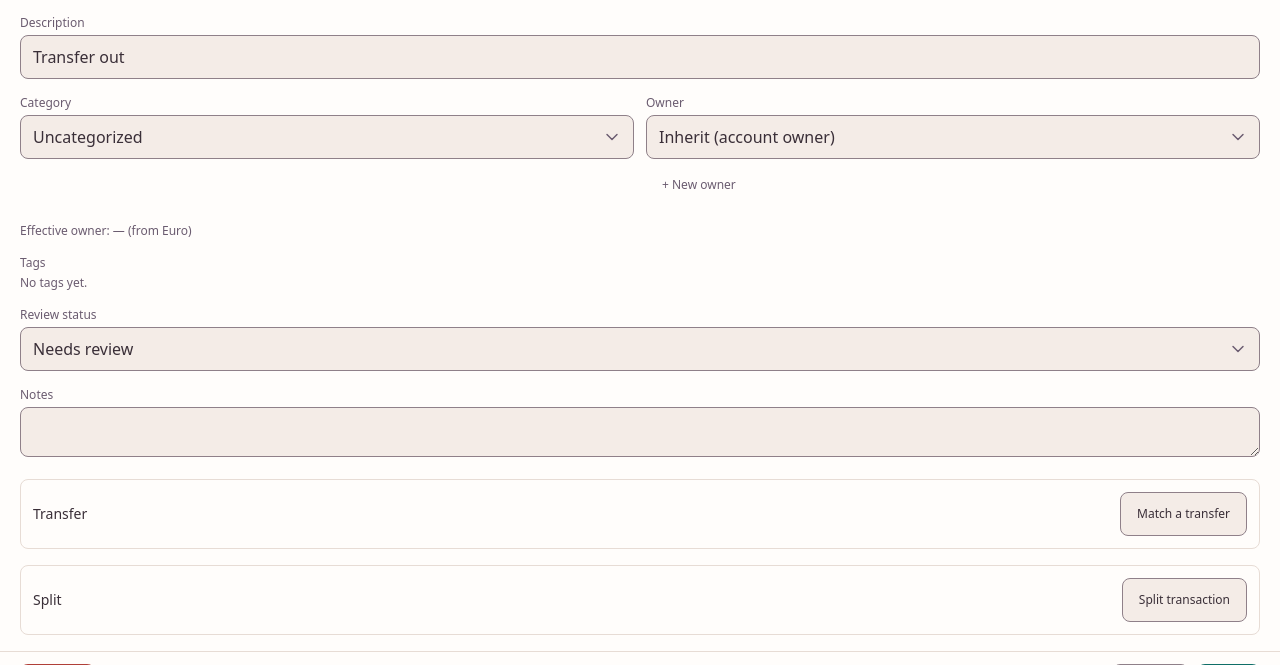
Scenario: <TxnDetailSheet /> transfers › flags a candidate whose spread is wider than a bank spread usually is
The image size is (1280, 665).
(page scrolled)
Click the button with test id "transfer-match-open": [1184, 514] box [1120, 492, 1247, 536]
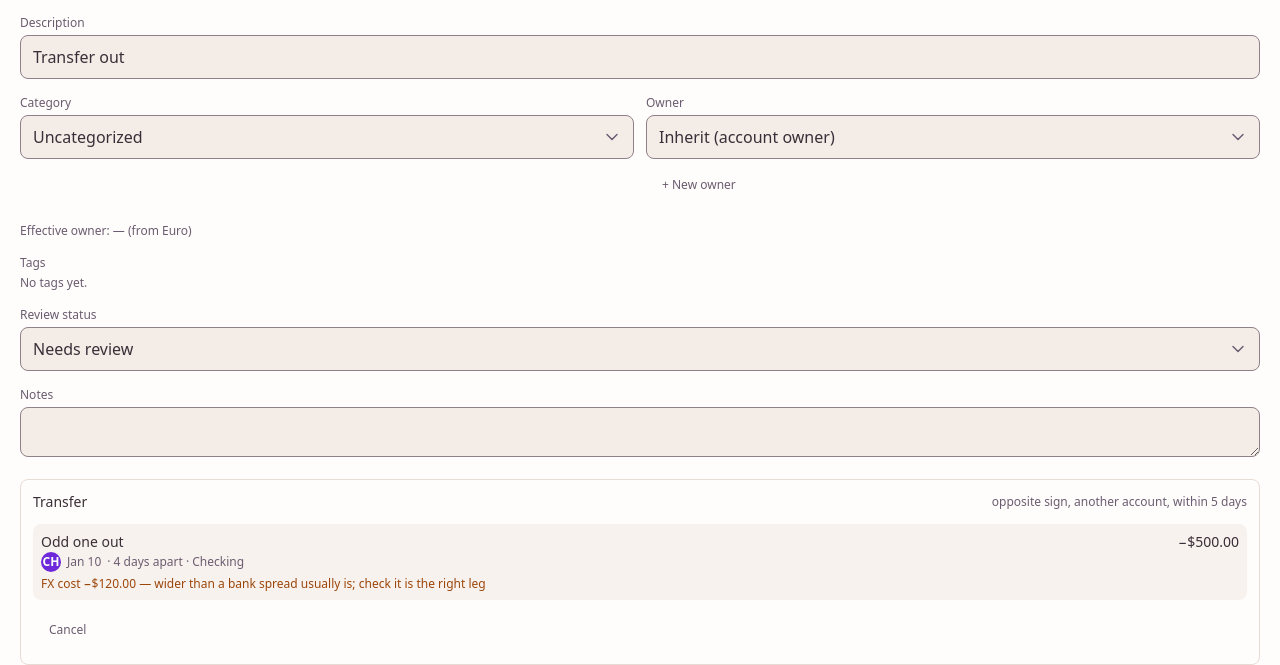
Check: the text with test id "transfer-candidate-cost-txn-odd" shows "FX cost", box [41, 575, 136, 592]
Check: the text with test id "transfer-candidate-cost-txn-odd" shows "check it is the right leg", box [136, 575, 486, 592]
Check: the button with test id "transfer-candidate-txn-odd" is enabled, box [33, 524, 1247, 600]
